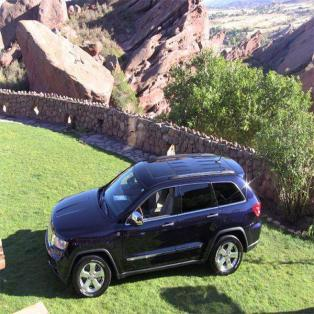Auto: (46, 152, 261, 298)
